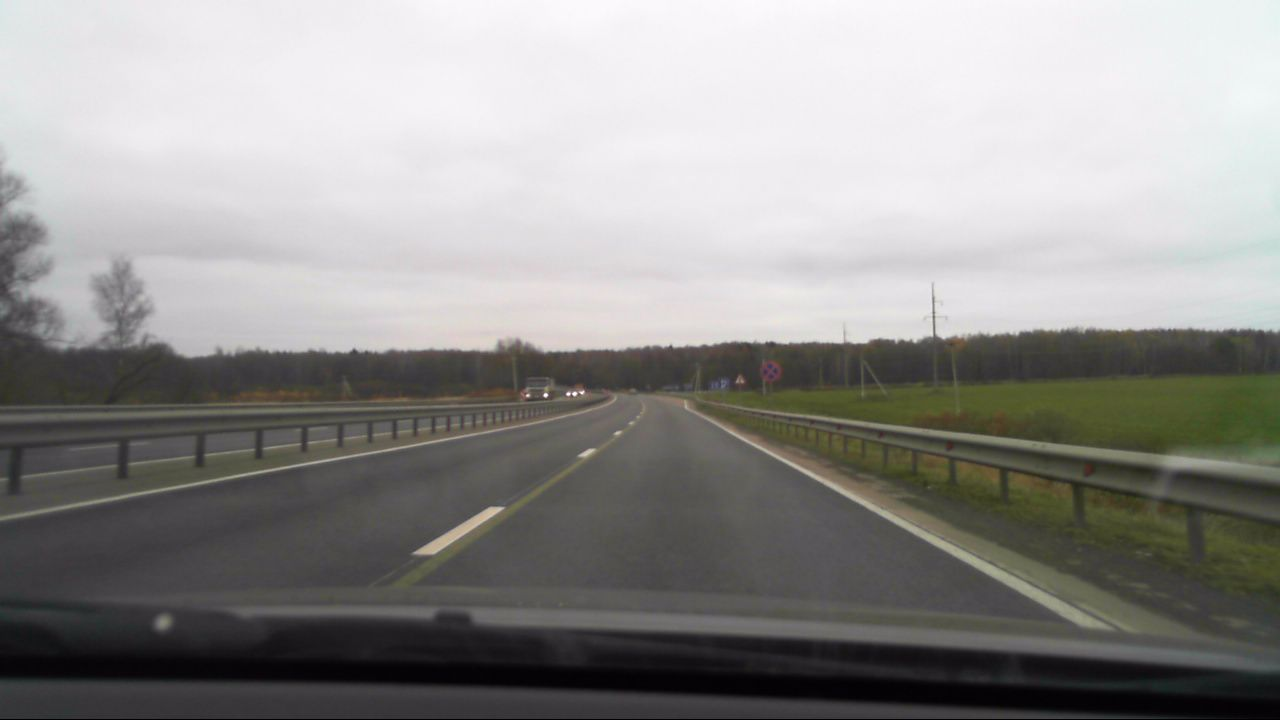No Parking: (759, 360, 782, 382)
